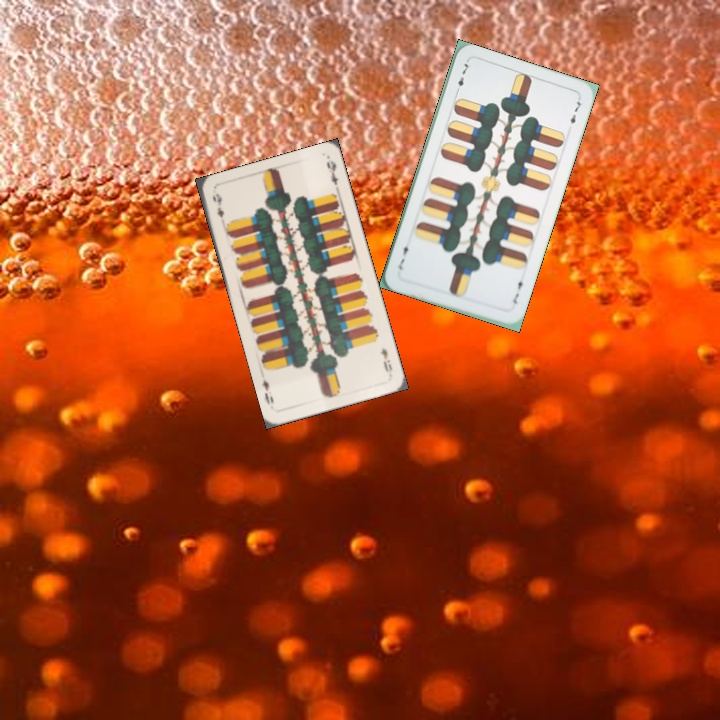E7: (452, 58, 471, 97), (509, 273, 527, 306)
E9: (376, 344, 395, 375), (208, 189, 226, 220)
